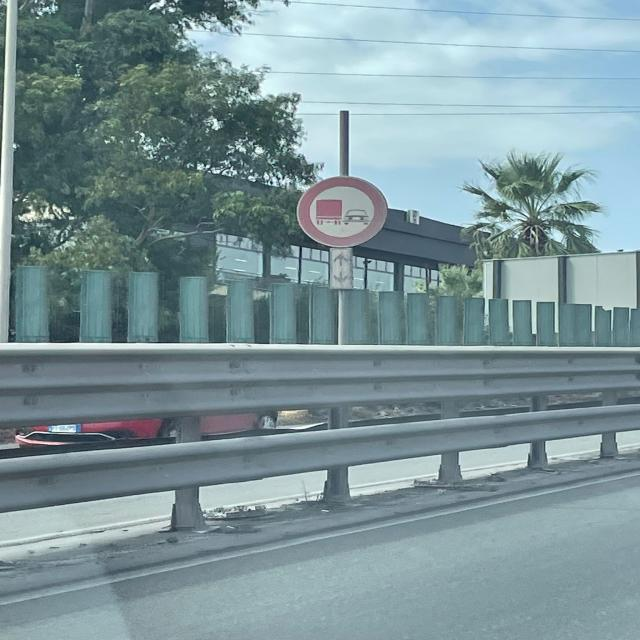forb_overtake_trucks: (296, 177, 391, 250)
